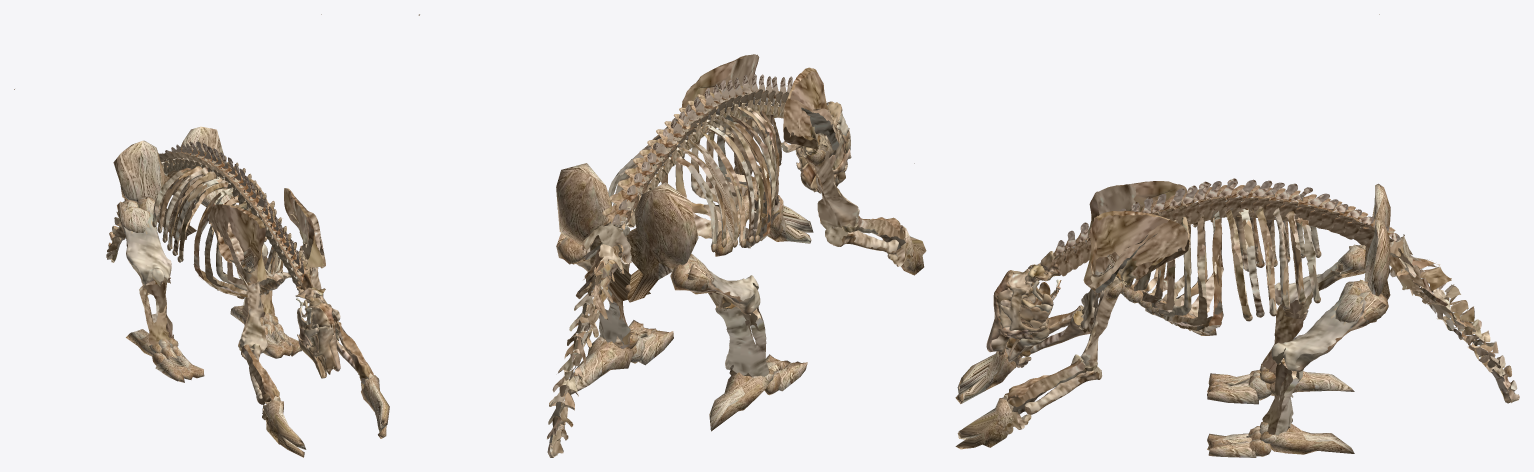
Rendered from Eremotheriumlasalle.glb.
The picture shows the model from 3 angles, left to right: view 1: azimuth 30°, elevation 25°; view 2: azimuth 150°, elevation 25°; view 3: azimuth 270°, elevation 25°; orthographic projection. The views are drawn at different scales.
Parts seen in each view (by area): view 1: coso_21, Icosphere.006, Icosphere.004, hueso_nose_2.024, coso_21.001, Icosphere.013, CABEZA2, Icosphere.005, Icosphere.008, nigga2; view 2: Icosphere.006, Icosphere.013, coso_21, Icosphere.004, hueso_nose_2.024, nigga2, Icosphere.005, coso_21.001, CABEZA2, Icosphere.003; view 3: Icosphere.006, coso_21.001, hueso_nose_2.024, Icosphere.005, Icosphere.004, coso_21, nigga2, CABEZA2, Icosphere.013, Icosphere.009, Icosphere.003.
Part boxes in pixels (box(x1,y1,x2,y2)): coso_21: box(14, 89, 306, 457); Icosphere.006: box(152, 165, 283, 297); Icosphere.004: box(117, 196, 204, 382); hueso_nose_2.024: box(159, 141, 312, 289); coso_21.001: box(284, 14, 389, 438); Icosphere.013: box(113, 126, 223, 240); CABEZA2: box(295, 272, 340, 378); Icosphere.005: box(195, 182, 301, 358); Icosphere.008: box(117, 201, 157, 232); nigga2: box(106, 153, 170, 262); Icosphere.006: box(608, 106, 781, 252); Icosphere.013: box(556, 163, 698, 302); coso_21: box(783, 67, 926, 275); Icosphere.004: box(670, 254, 807, 431); hueso_nose_2.024: box(602, 74, 914, 229); nigga2: box(546, 221, 632, 457); Icosphere.005: box(556, 237, 673, 394); coso_21.001: box(418, 14, 813, 243); CABEZA2: box(795, 101, 851, 193); Icosphere.003: box(715, 144, 772, 256); Icosphere.006: box(1124, 205, 1321, 334); coso_21.001: box(955, 210, 1188, 449); hueso_nose_2.024: box(1051, 178, 1400, 276); Icosphere.005: box(1207, 279, 1388, 457); Icosphere.004: box(1207, 244, 1365, 404); coso_21: box(955, 14, 1379, 403); nigga2: box(1389, 234, 1519, 403); CABEZA2: box(986, 251, 1061, 362); Icosphere.013: box(1364, 183, 1390, 322); Icosphere.009: box(1335, 294, 1386, 323); Icosphere.003: box(1120, 284, 1216, 335).
Size of the model in its own units: 4.59 by 3.84 by 6.08.
Materials: 15 (15 with a texture image).
